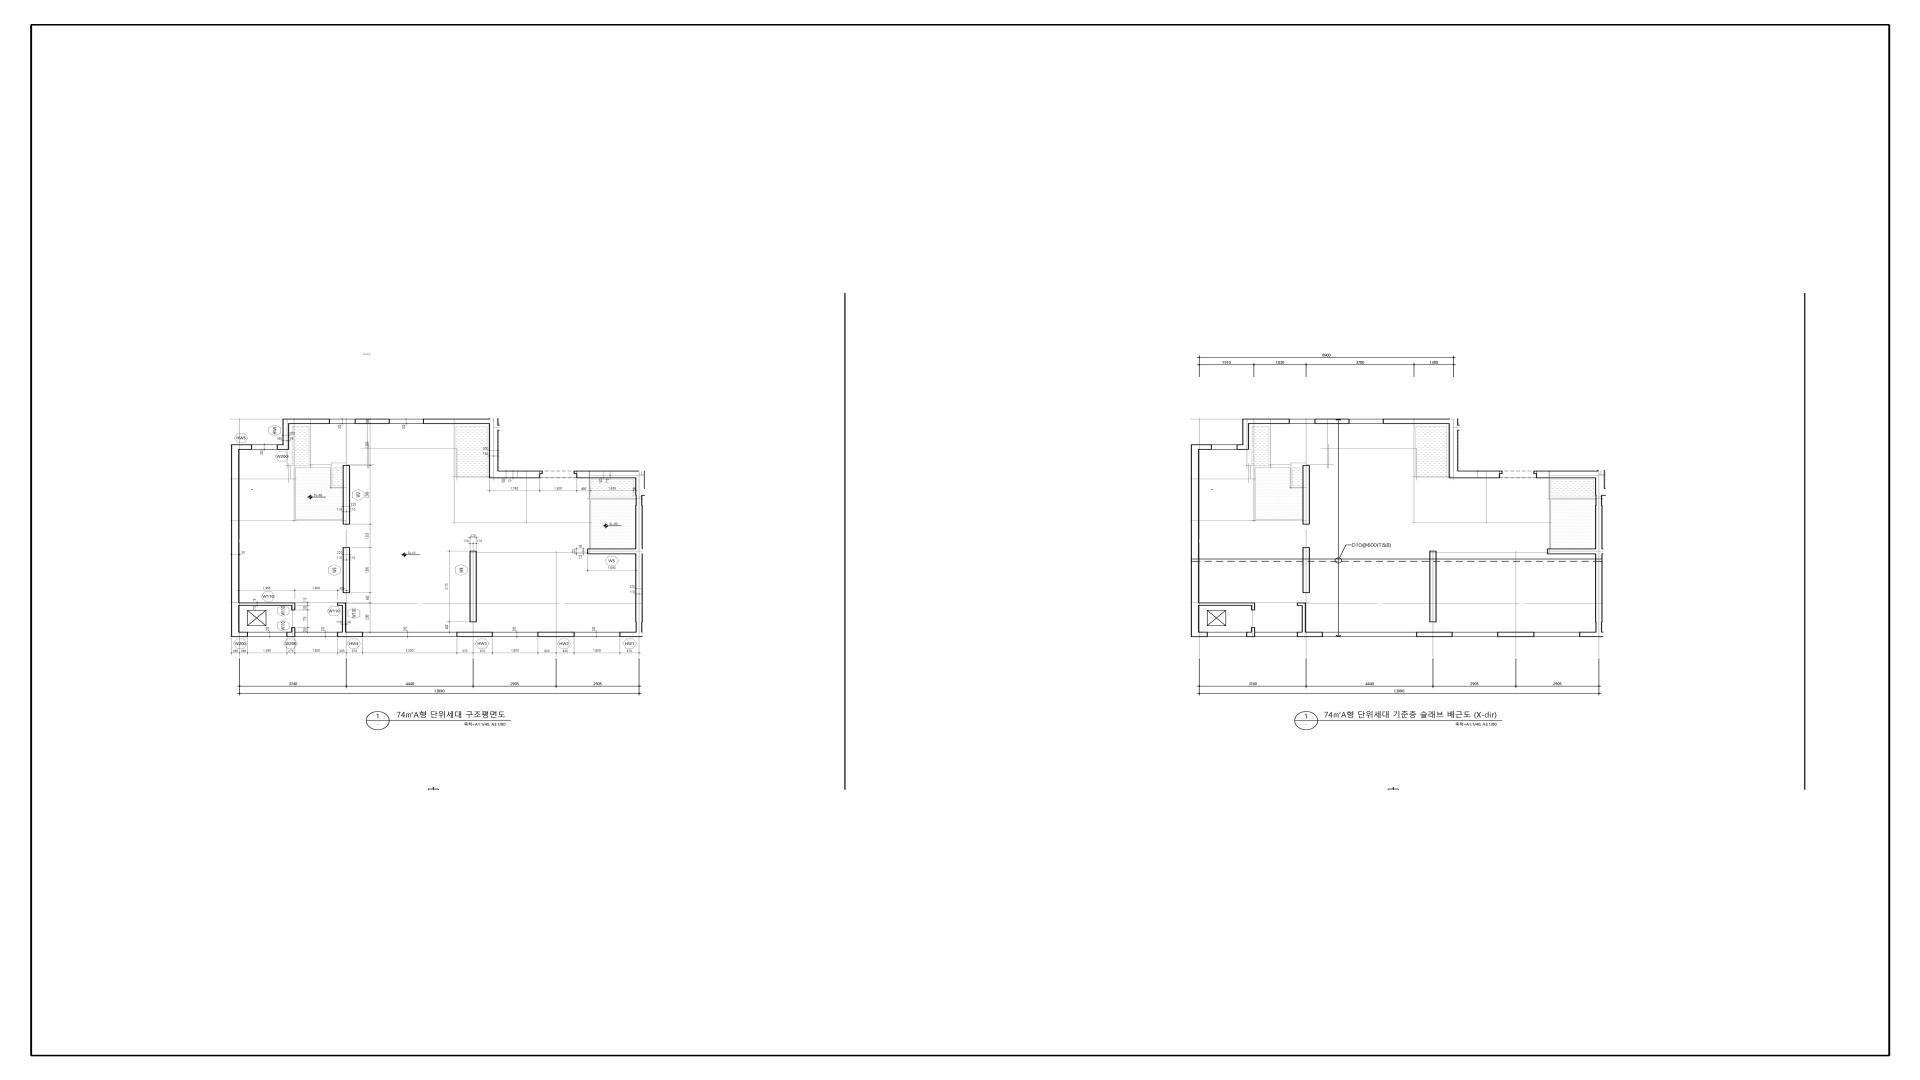wall: (231, 450, 239, 632), (1191, 450, 1199, 632), (635, 496, 643, 632), (1595, 496, 1603, 632), (1429, 551, 1437, 622), (470, 551, 477, 622), (489, 424, 498, 478), (1449, 424, 1458, 478), (576, 471, 645, 478), (1536, 471, 1605, 478), (343, 465, 350, 525), (1303, 465, 1310, 525), (423, 419, 498, 424), (1383, 419, 1458, 424), (1302, 547, 1310, 593), (343, 547, 350, 593), (498, 471, 540, 478), (1458, 471, 1500, 478), (587, 549, 635, 554), (1547, 549, 1595, 554), (289, 419, 330, 424), (1249, 419, 1290, 424), (1497, 632, 1535, 637), (456, 632, 493, 637), (538, 632, 575, 637), (1416, 632, 1453, 637), (635, 478, 645, 496), (1595, 478, 1605, 496), (355, 419, 390, 424), (1242, 419, 1249, 444), (1315, 419, 1350, 424), (239, 603, 291, 606), (1199, 603, 1251, 606), (283, 419, 289, 444), (337, 632, 363, 637), (1297, 632, 1323, 637), (231, 444, 252, 450), (1191, 444, 1212, 450), (619, 632, 643, 637), (1579, 632, 1603, 637), (342, 606, 346, 632), (1302, 606, 1306, 632), (231, 632, 248, 637), (1191, 632, 1208, 637), (277, 444, 289, 450), (1237, 444, 1249, 450), (286, 632, 295, 637), (1246, 632, 1255, 637), (291, 603, 295, 610), (1251, 603, 1255, 610), (337, 603, 346, 606), (1297, 603, 1306, 606), (291, 627, 295, 632), (1251, 627, 1255, 632), (540, 471, 543, 474), (1500, 471, 1503, 474), (1533, 471, 1536, 474), (574, 471, 576, 474)
